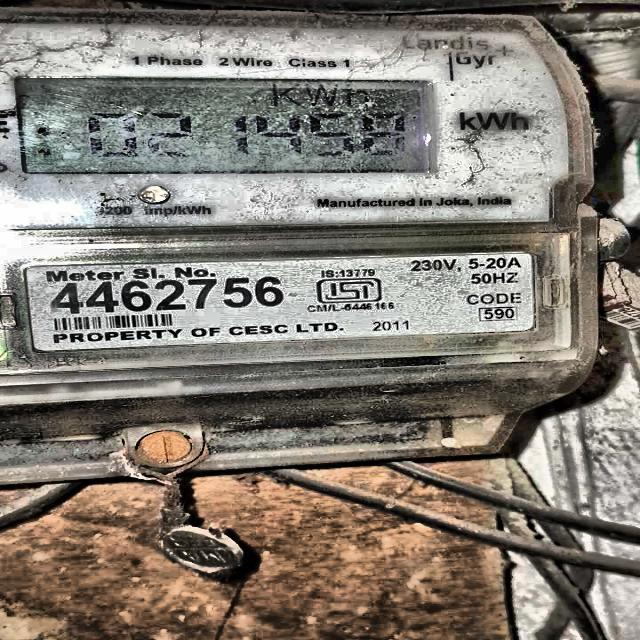Digital: (0, 8, 590, 399)
Reading: (64, 108, 413, 162)
Serial No.: (50, 280, 296, 314)
